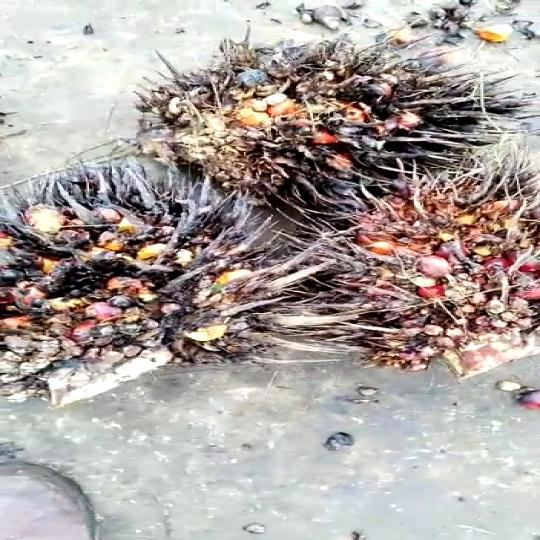terlalu masak: (0, 156, 322, 382), (132, 50, 530, 214), (268, 155, 540, 384)
